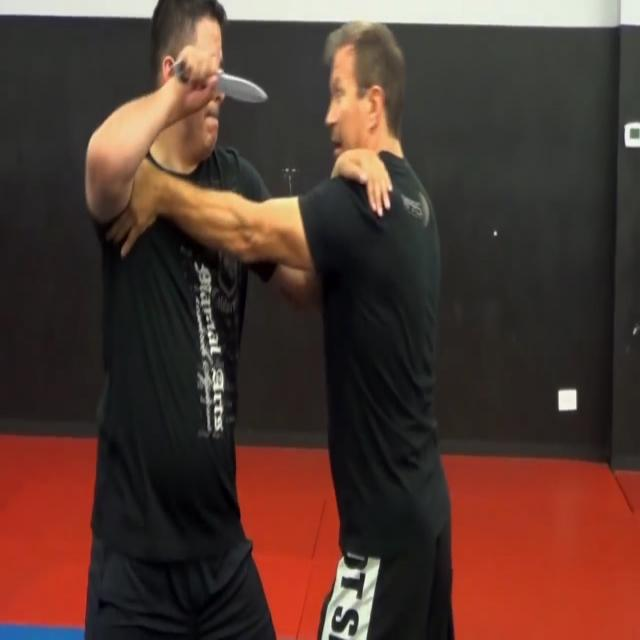knife: (216, 73, 272, 107)
